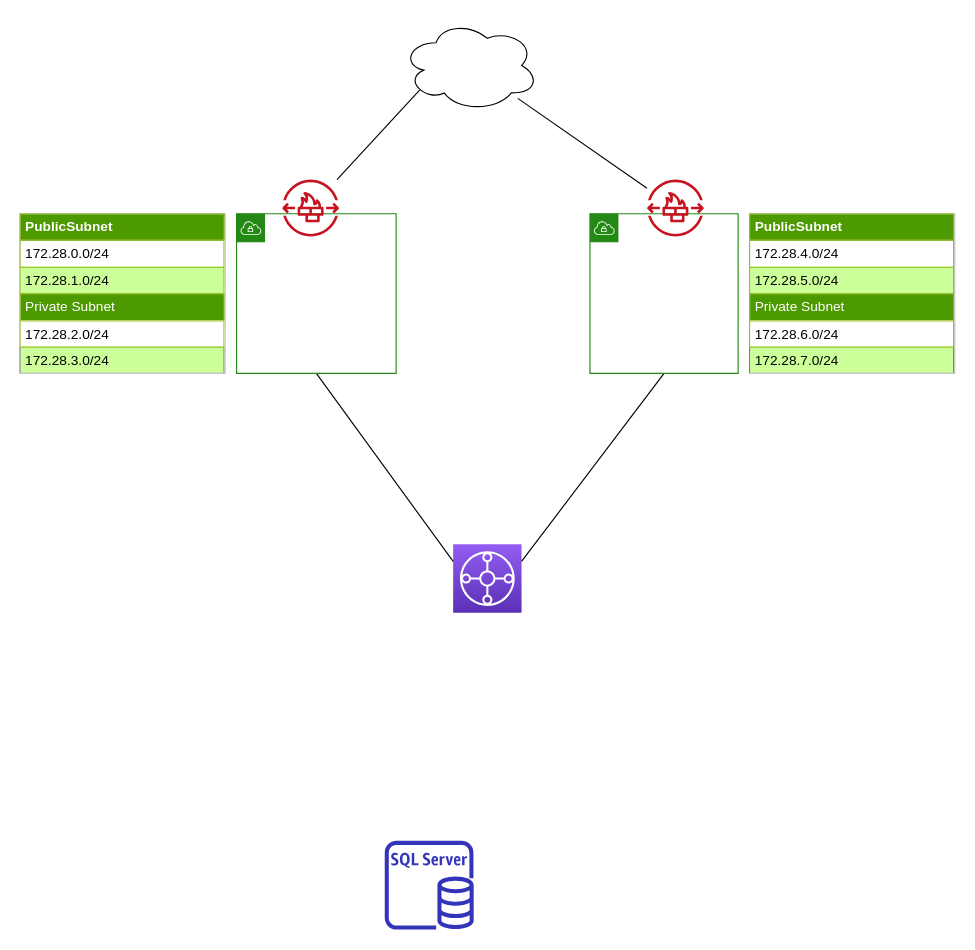
Image size: 975x950. Some labels were removed from this diagram. Here are the shapes that lost their labels. From the top down, the centre of each, then its label:
At (x=470, y=65): "Internet".
At (x=487, y=578): "Transit Gateway".
